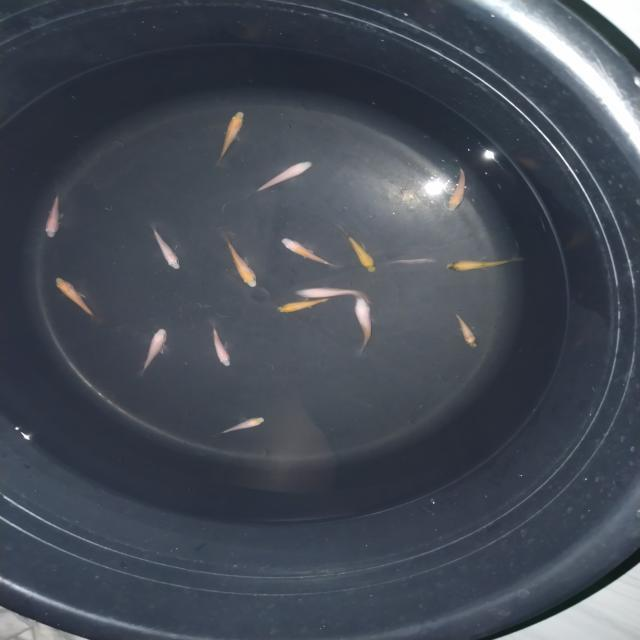nila: (241, 159, 314, 198), (52, 275, 104, 323), (280, 235, 340, 274), (223, 231, 260, 291), (131, 326, 171, 379), (338, 221, 378, 274), (213, 106, 250, 163), (148, 220, 184, 272), (210, 412, 272, 440), (443, 256, 528, 274), (350, 297, 375, 357), (293, 284, 374, 302), (206, 318, 234, 368), (451, 307, 482, 349), (446, 160, 468, 214), (42, 188, 64, 240), (272, 297, 332, 315)
